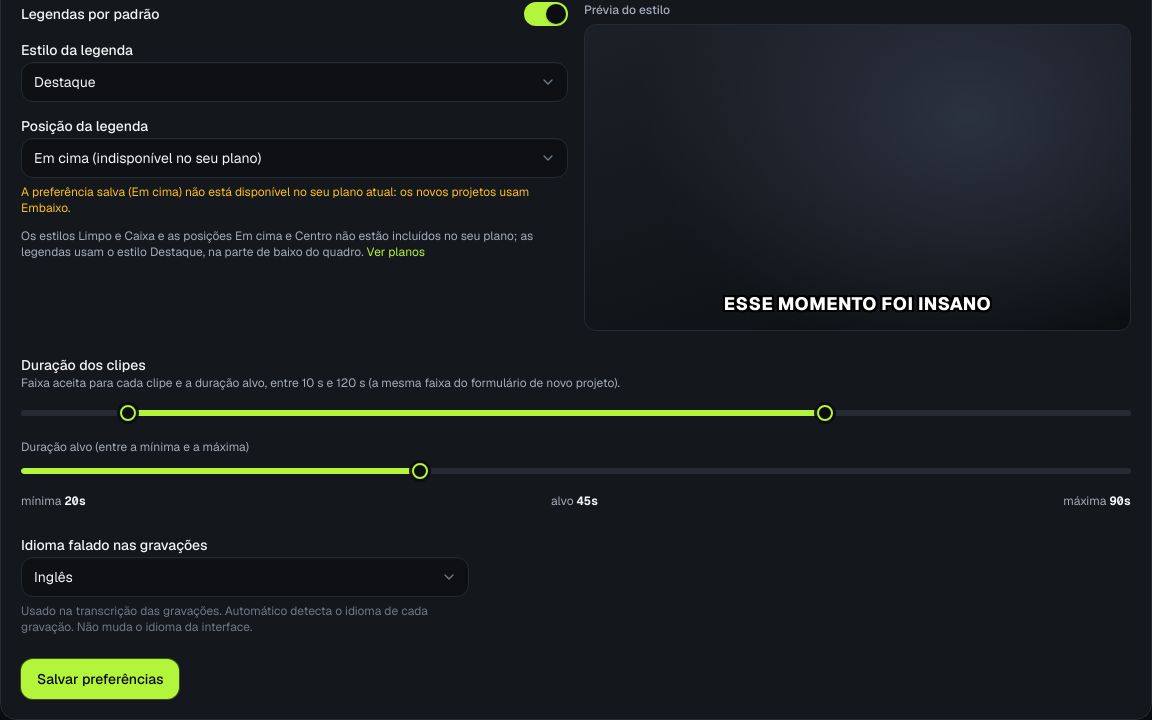
Test case: Settings → Preferências de edição › disables the subtitle positions the plan does not include, flags the saved one and previews what new projects get
(page scrolled)
Expected: the text "A preferência salva (Em cima) não está disponível no seu plano atual: os novos projetos usam Embaixo." is shown, [21, 184, 568, 216]
Expected: the text "as legendas usam o estilo Destaque, na parte de baixo do quadro" is shown, [21, 228, 568, 260]
The stored preference is kept (it applies again after an upgrade) until the person changes it.
Click the button "Salvar preferências" at (100,679), box [21, 659, 180, 699]
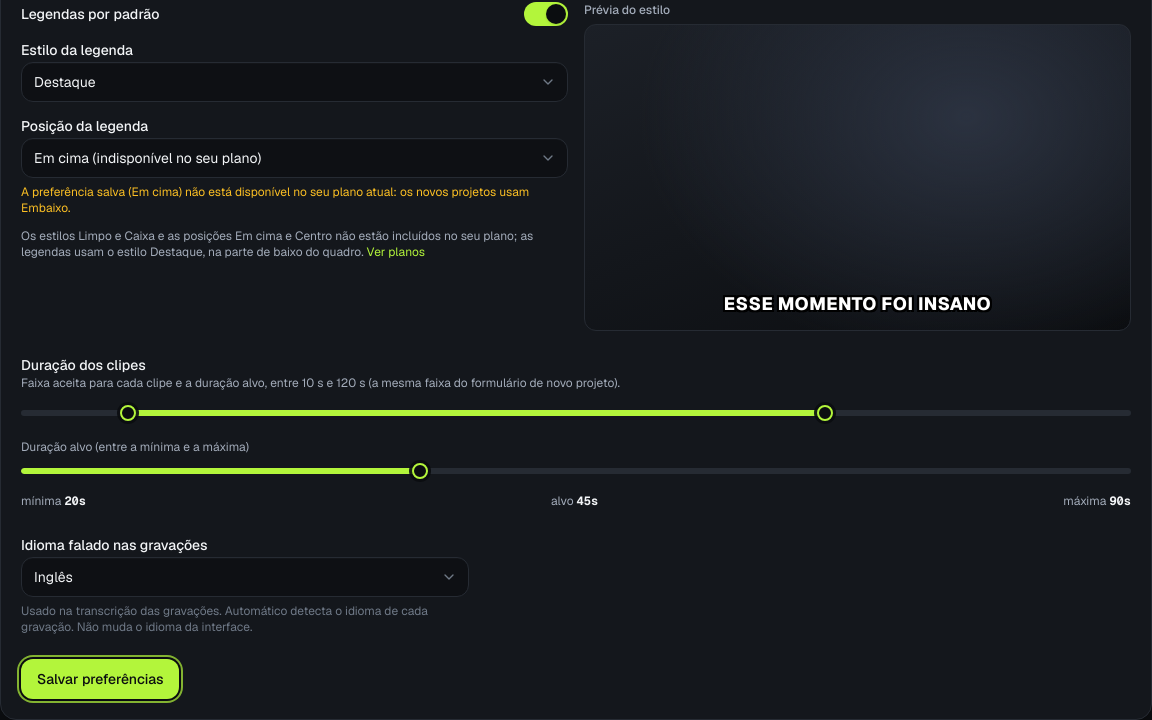
Select "Embaixo" in the dropdown labelled "Posição da legenda" at (294,158), box [21, 138, 568, 178]
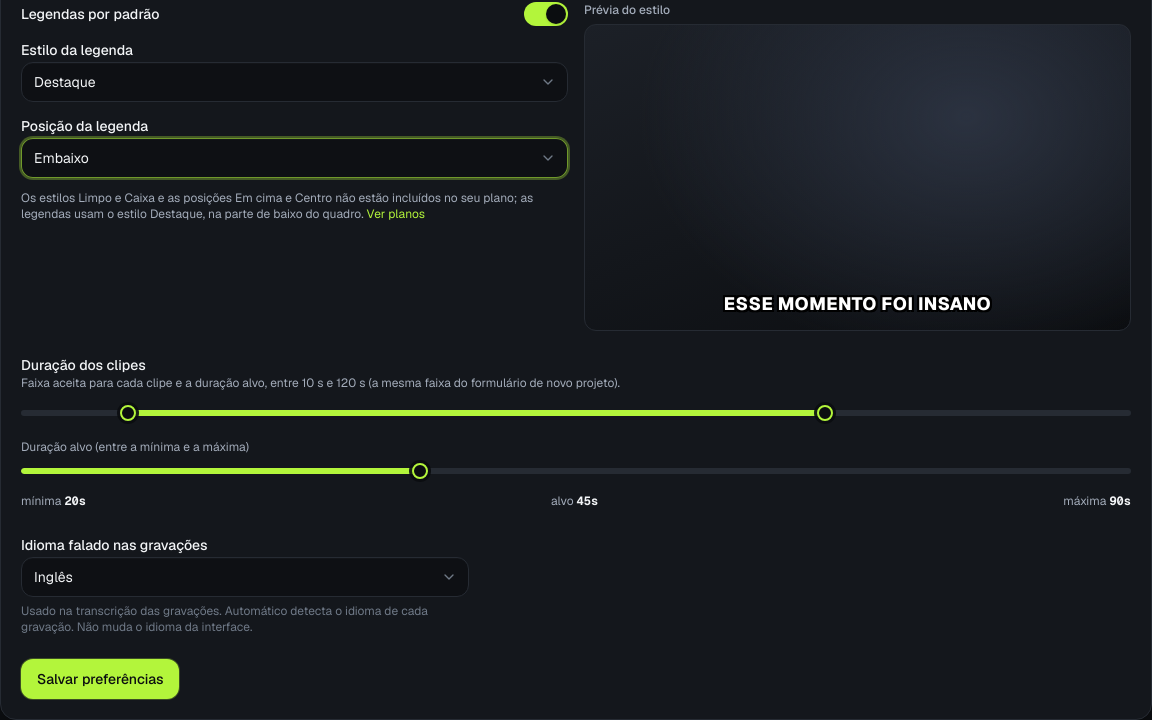
Result: the text "A preferência salva (Em cima)" is gone
